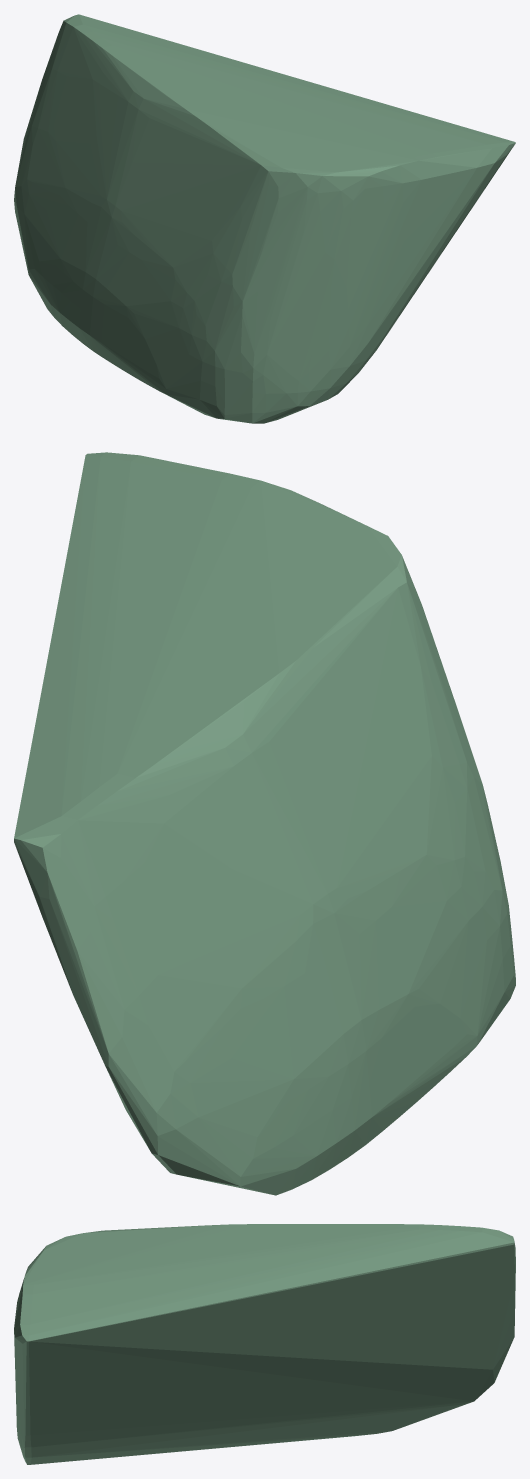
Rendered from left-shin-0_part_0.obj.
3 views of the same model, one above another, from view 1: azimuth 30°, elevation 25°; view 2: azimuth 150°, elevation 25°; view 3: azimuth 270°, elevation 25° (orthographic). The views are drawn at different scales.
Bounding box in the file's own units: 0.0394 × 0.0307 × 0.057.
